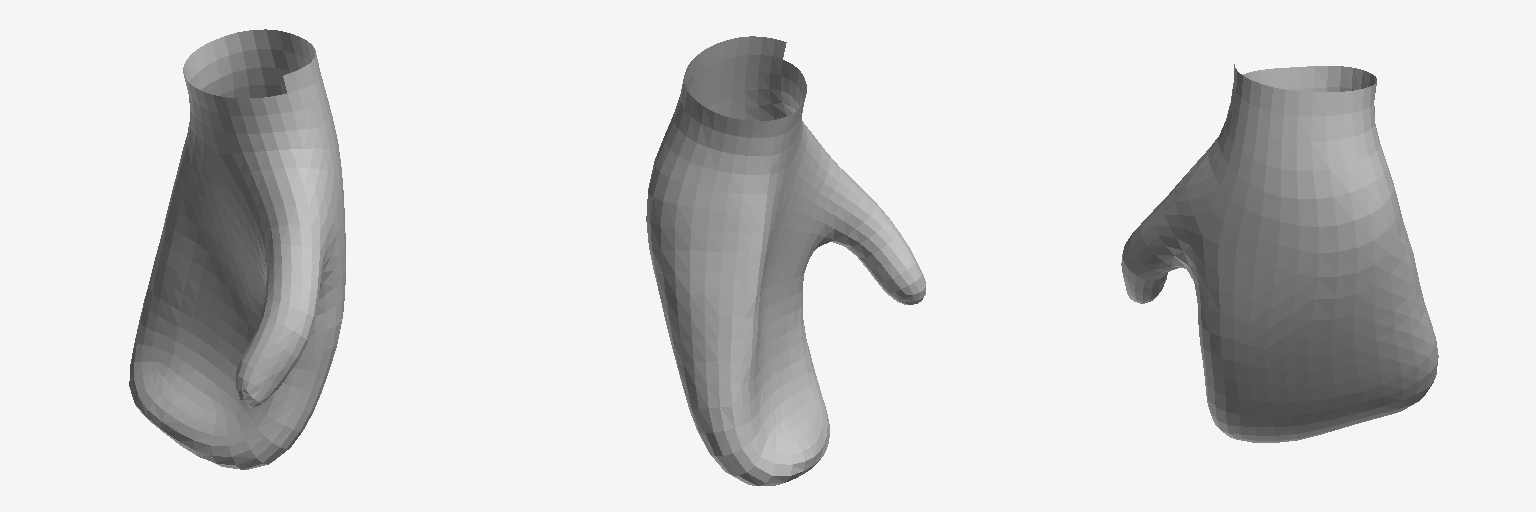
File: LeftHand.obj
3 renders of one model, left to right at view 1: azimuth 30°, elevation 25°; view 2: azimuth 150°, elevation 25°; view 3: azimuth 270°, elevation 25°, orthographic.
Parts seen in each view (by area): view 1: Stick_Figure_by_Swp.004; view 2: Stick_Figure_by_Swp.004; view 3: Stick_Figure_by_Swp.004.
Boxes of the visible parts, box(x1,y1,x2,y2) form: Stick_Figure_by_Swp.004: box(129, 29, 345, 469); Stick_Figure_by_Swp.004: box(646, 36, 925, 485); Stick_Figure_by_Swp.004: box(1121, 64, 1438, 442).
Bounding box in the file's own units: 0.2863 × 0.6221 × 0.4528.